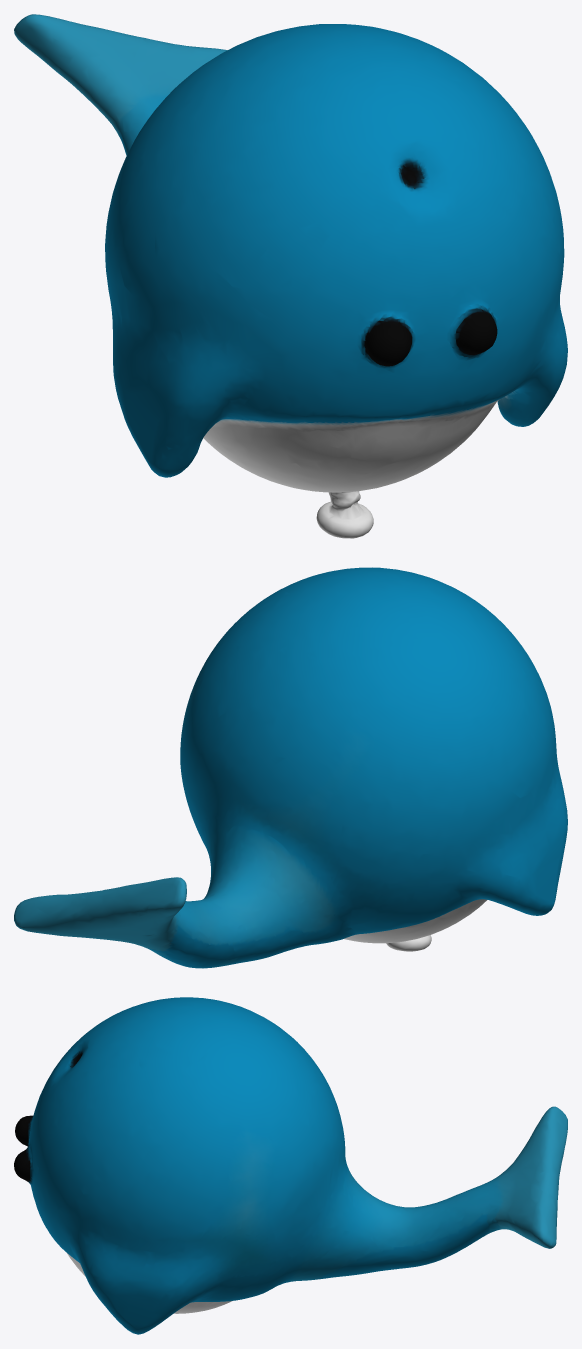
Rendered from smeerws_2018-03-03_09-02-26wal.fbx.
3 views of the same model, one above another, from view 1: azimuth 30°, elevation 25°; view 2: azimuth 150°, elevation 25°; view 3: azimuth 270°, elevation 25° (orthographic). The views are drawn at different scales.
Parts seen in each view (by area): view 1: Layer_1; view 2: Layer_1; view 3: Layer_1.
Boxes of the visible parts, x1,y1,x2,y2 form: Layer_1: (14, 14, 567, 538); Layer_1: (14, 567, 567, 968); Layer_1: (14, 997, 567, 1334).
Size of the model in its own units: 0.6091 by 1.05 by 0.6615.
